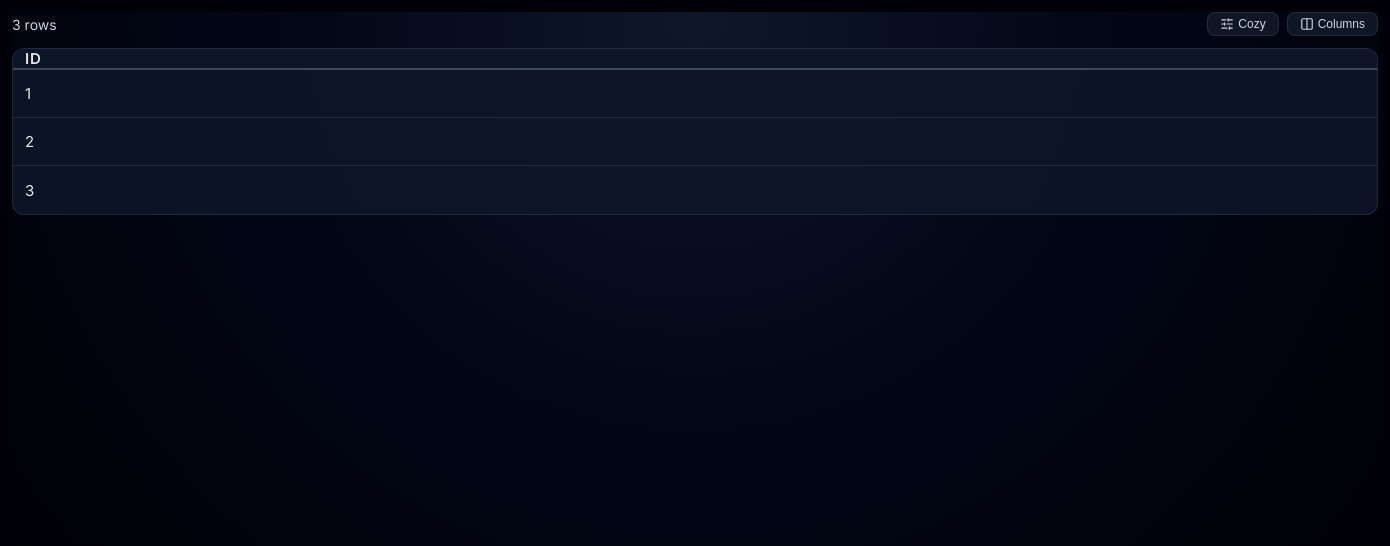
Scenario: LedgerTable › does not allow hiding the last column
Click the button with aria-label "Column visibility".
click(1332, 24)  # box [1287,12,1378,36]
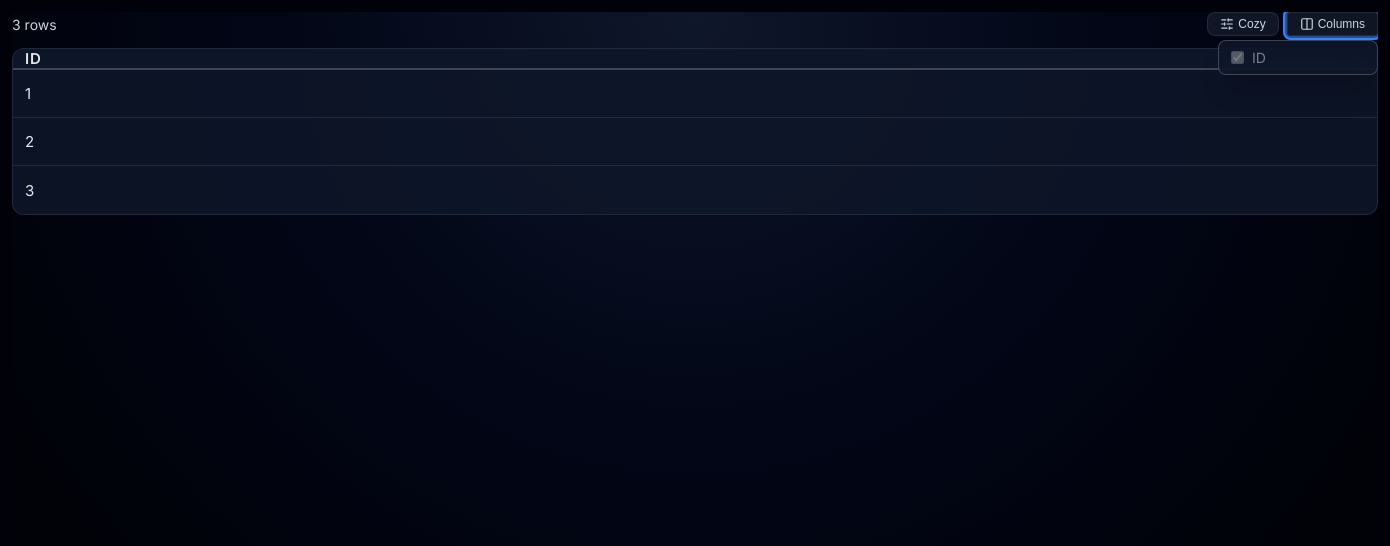
Result: the checkbox is disabled at [1231,51,1244,64]
